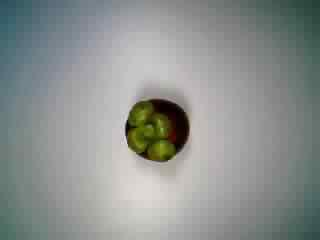mangosteen: (117, 92, 191, 162)
